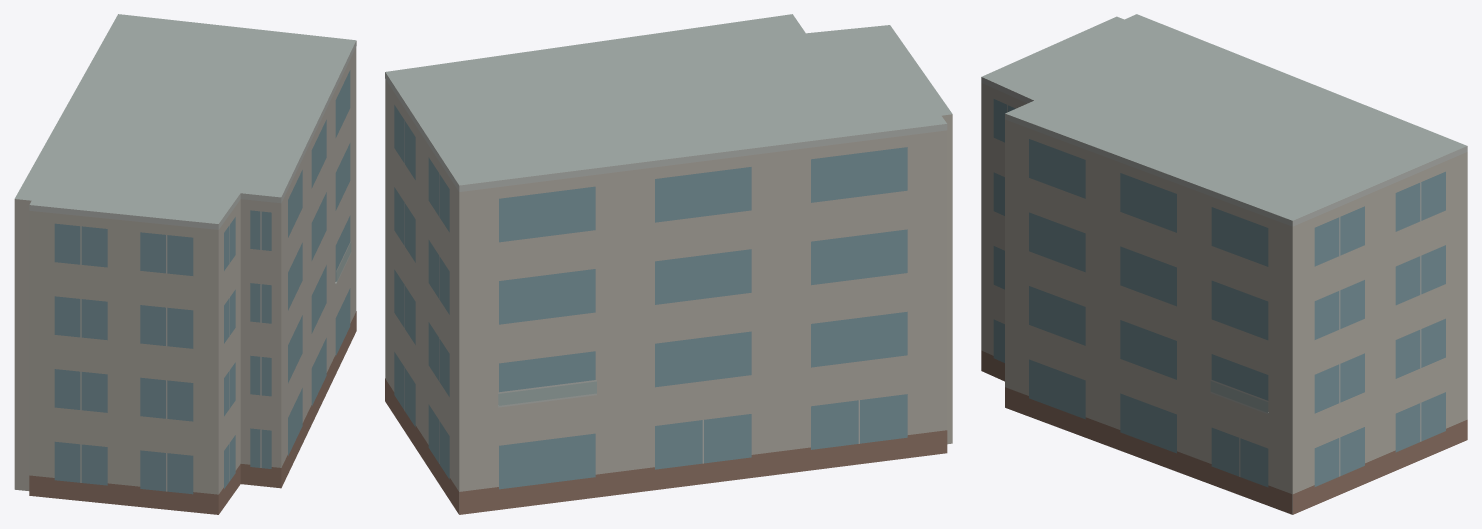
File: survey-upis-32784451.glb
The picture shows the model from 3 angles, left to right: view 1: azimuth 30°, elevation 25°; view 2: azimuth 150°, elevation 25°; view 3: azimuth 270°, elevation 25°; orthographic projection. The views are drawn at different scales.
Parts seen in each view (by area): view 1: survey-upis-32784451.tmp; view 2: survey-upis-32784451.tmp; view 3: survey-upis-32784451.tmp.
Boxes of the visible parts, box(x1,y1,x2,y2) form: survey-upis-32784451.tmp: box(14, 14, 356, 514); survey-upis-32784451.tmp: box(385, 14, 952, 514); survey-upis-32784451.tmp: box(981, 14, 1467, 514).
Bounding box in the file's own units: 18.41 × 12.2 × 18.29.
